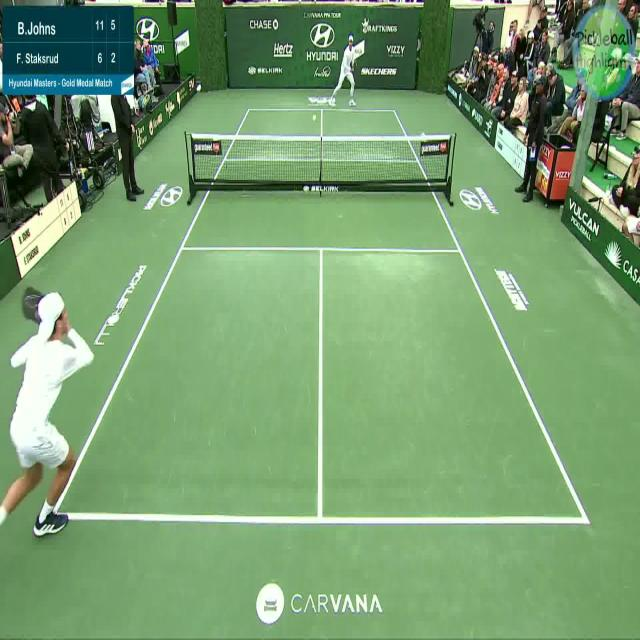ball: (311, 111, 318, 125)
